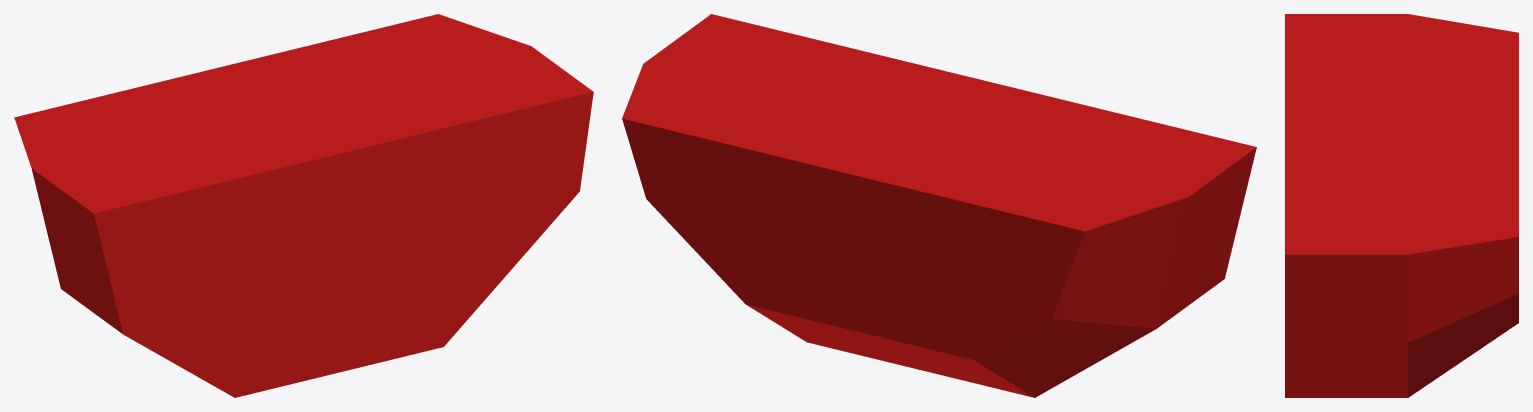
The model's file is smallGoop.obj.
3 views of the same model, side by side, from view 1: azimuth 30°, elevation 25°; view 2: azimuth 150°, elevation 25°; view 3: azimuth 270°, elevation 25° (orthographic). The views are drawn at different scales.
Visible parts, largest first — view 1: Blob.003; view 2: Blob.003; view 3: Blob.003.
Part boxes in pixels (x1,y1,x2,y2): Blob.003: [14, 14, 593, 397]; Blob.003: [622, 14, 1256, 397]; Blob.003: [1285, 14, 1518, 397].
Bounding box in the file's own units: 0.0538 × 0.0225 × 0.0221.
